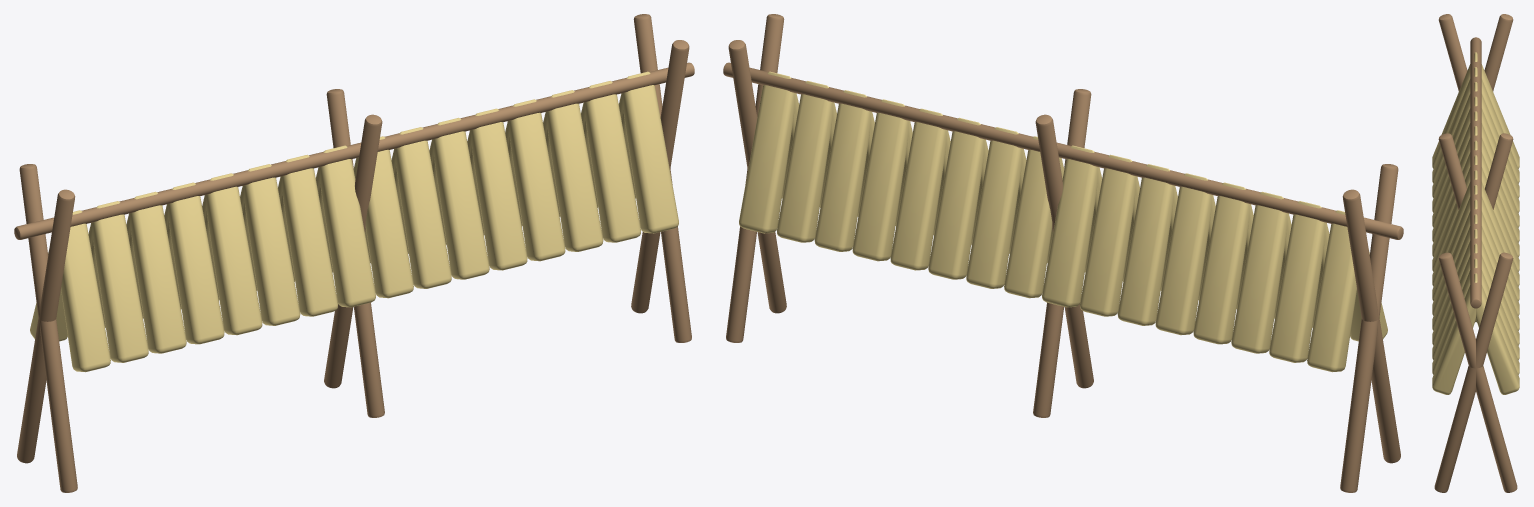
File: hasakake.glb
The picture shows the model from 3 angles, left to right: view 1: azimuth 30°, elevation 25°; view 2: azimuth 150°, elevation 25°; view 3: azimuth 270°, elevation 25°; orthographic projection. The views are drawn at different scales.
Visible parts, largest first — view 1: hasakake; view 2: hasakake; view 3: hasakake.
Boxes of the visible parts, x1,y1,x2,y2 form: hasakake: [14, 14, 694, 492]; hasakake: [723, 14, 1403, 492]; hasakake: [1432, 14, 1519, 492].
Size of the model in its own units: 4.4 by 1.86 by 0.6191.
